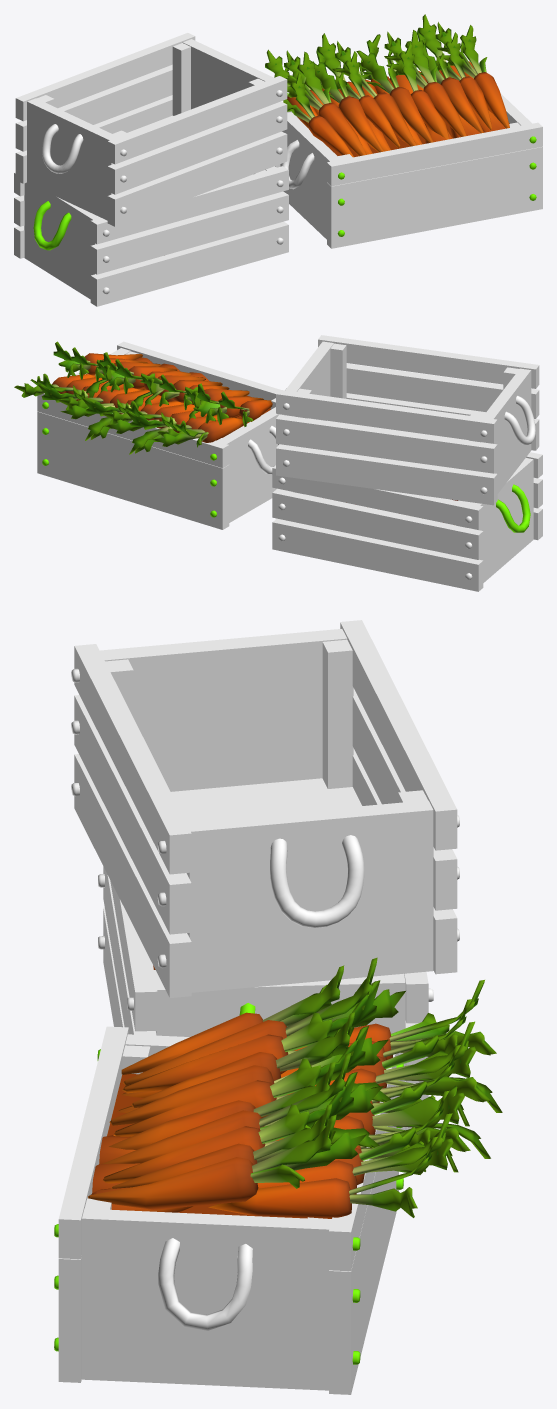
File: goods_baskets.glb
3 renders of one model, top to bottom at view 1: azimuth 30°, elevation 25°; view 2: azimuth 150°, elevation 25°; view 3: azimuth 270°, elevation 25°, orthographic. The views are drawn at different scales.
Visible parts, largest first — view 1: Cube127, Cylinder018_1, Cylinder057, Cylinder018; view 2: Cube127, Cylinder057, Cylinder018_1, Cylinder018; view 3: Cube127, Cylinder018, Cylinder018_1, Cylinder057.
Part boxes in pixels (x1,y1,x2,y2): Cube127: [15, 33, 287, 226]; Cylinder018_1: [275, 93, 542, 248]; Cylinder057: [14, 166, 288, 306]; Cylinder018: [265, 14, 509, 157]; Cube127: [276, 335, 539, 505]; Cylinder057: [272, 452, 542, 591]; Cylinder018_1: [37, 341, 283, 529]; Cylinder018: [14, 341, 272, 454]; Cube127: [74, 620, 457, 997]; Cylinder018: [88, 957, 502, 1218]; Cylinder018_1: [58, 1026, 398, 1394]; Cylinder057: [103, 866, 428, 1130].
Bounding box in the file's own units: 1.47 × 0.4876 × 0.6057.
